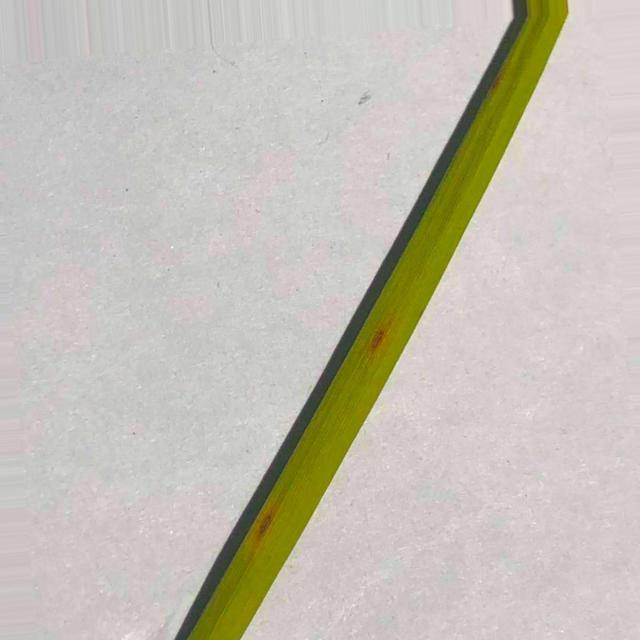Brown_Spot: (255, 510, 272, 531), (372, 329, 388, 346)
